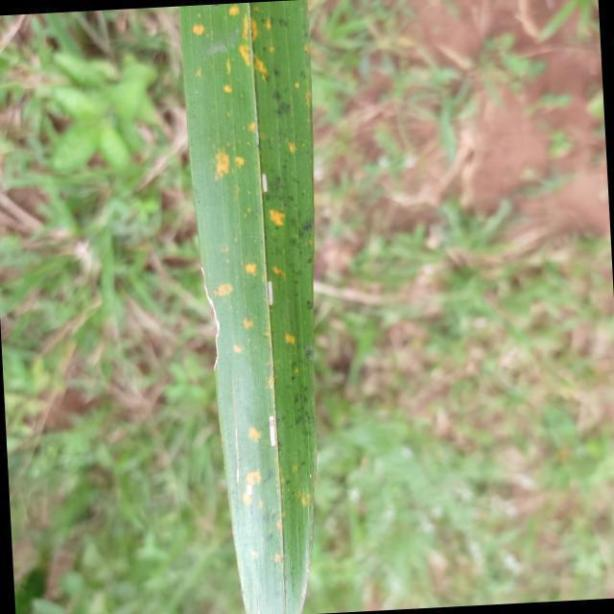Kalium: (178, 0, 316, 614)
